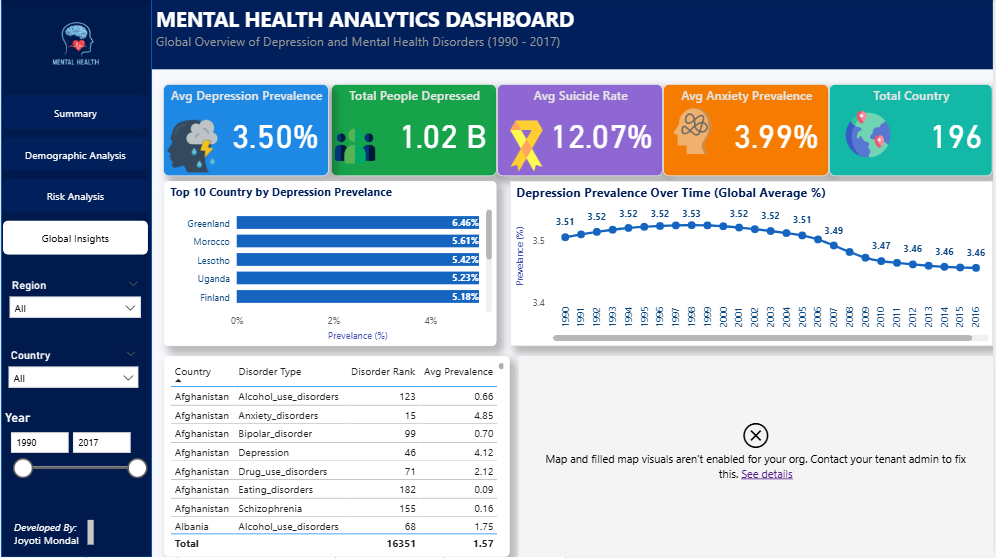

The page's visual inventory and layout, read from the dashboard file:
{"tool":"powerbi","page":{"name":"Global Insights","canvas":[1280,720],"ordinal":3},"visuals":[{"type":"shape","box":[0,0,194.9,720.6],"z":0},{"type":"cardVisual","title":"Avg Depression Prevalence","fields":{"Data":["_Key Measures.Avg Depression Prevalence %"]},"box":[209.5,109.5,214.3,119],"z":0,"group":"g1"},{"type":"shape","box":[194.9,0,1085.1,90.7],"z":1000},{"type":"image","box":[209.5,149.2,76.2,79.4],"z":1000,"group":"g1"},{"type":"textbox","box":[195.2,3.2,558.7,84.1],"z":2000},{"type":"image","box":[11.8,3.4,171.3,120.9],"z":3000},{"type":"slicer","fields":{"Values":["DimCountry.Country"]},"box":[0,446.5,187.1,73.7],"z":4000},{"type":"slicer","title":"Year","fields":{"Values":["DimYear.Year"]},"box":[0,530.1,197,96.4],"z":5000},{"type":"cardVisual","title":"Total People Depressed","fields":{"Data":["_Key Measures.People Suffering KPI"]},"box":[425.4,109.5,214.3,119],"z":6000},{"type":"cardVisual","title":"Avg Suicide Rate","fields":{"Data":["_Key Measures.Avg Suicide Rate"]},"box":[639.7,109.5,214.3,119],"z":7000},{"type":"cardVisual","title":"Avg Anxiety Prevalence","fields":{"Data":["_Key Measures.Avg Anxiety Prevalence %"]},"box":[854,109.5,214.3,119],"z":8000},{"type":"cardVisual","title":"Total Country","fields":{"Data":["_Key Measures.Total Country"]},"box":[1068.3,109.5,211.1,119],"z":9000},{"type":"group","id":"g1","title":"Group 1","box":[209.5,109.5,214.3,119],"z":10000},{"type":"image","box":[425.4,149.2,61.9,79.4],"z":11000},{"type":"image","box":[639.7,149.2,76.2,79.4],"z":12000},{"type":"image","box":[854,130.2,76.2,79.4],"z":13000},{"type":"image","box":[1084.1,139.7,69.8,69.8],"z":14000},{"type":"pageNavigator","box":[3.2,123.8,187.3,209.5],"z":15000},{"type":"textbox","box":[11.1,666.7,112.7,42.9],"z":16000},{"type":"barChart","title":"Top 10 Country by Depression Prevelance","fields":{"Category":["MentalDisorders.Country"],"Y":["_Key Measures.Avg Depression Axis"]},"box":[209.8,235.3,429.4,212.6],"z":17000},{"type":"lineChart","title":"Depression Prevalence Over Time (Global Average %)","fields":{"Y":["_Key Measures.Avg Depression %"],"Category":["MentalDisorders.Year"]},"box":[656.2,235.3,623.6,212.6],"z":18000},{"type":"tableEx","fields":{"Values":["MentalDisorders.Country","MentalDisorders.Disorder Type","_Key Measures.Disorder Rank","_Key Measures.Avg Prevalence"]},"box":[209.8,460.6,446.5,259.4],"z":19000},{"type":"map","title":"Highest Depression % of Population by Country","fields":{"Category":["DimCountry.Country"],"Size":["_Key Measures.Depression % of Population"]},"box":[669,460.6,610.9,259.4],"z":20000},{"type":"slicer","fields":{"Values":["DimCountry.Region"]},"box":[1.4,355.7,188.5,92.1],"z":21000}]}

Visuals, with their boxes on the page's 1280x720 design canvas (x1, y1, x2, y2). These are canvas units, not pixel positions in the 996x558 screenshot, which may show the page scaled, cropped or inside an application window:
shape: x1=0, y1=0, x2=195, y2=721
"Avg Depression Prevalence" cardVisual: x1=210, y1=110, x2=424, y2=228
shape: x1=195, y1=0, x2=1280, y2=91
image: x1=210, y1=149, x2=286, y2=229
textbox: x1=195, y1=3, x2=754, y2=87
image: x1=12, y1=3, x2=183, y2=124
slicer - DimCountry.Country: x1=0, y1=446, x2=187, y2=520
"Year" slicer: x1=0, y1=530, x2=197, y2=626
"Total People Depressed" cardVisual: x1=425, y1=110, x2=640, y2=228
"Avg Suicide Rate" cardVisual: x1=640, y1=110, x2=854, y2=228
"Avg Anxiety Prevalence" cardVisual: x1=854, y1=110, x2=1068, y2=228
"Total Country" cardVisual: x1=1068, y1=110, x2=1279, y2=228
"Group 1" group: x1=210, y1=110, x2=424, y2=228
image: x1=425, y1=149, x2=487, y2=229
image: x1=640, y1=149, x2=716, y2=229
image: x1=854, y1=130, x2=930, y2=210
image: x1=1084, y1=140, x2=1154, y2=210
pageNavigator: x1=3, y1=124, x2=190, y2=333
textbox: x1=11, y1=667, x2=124, y2=710
"Top 10 Country by Depression Prevelance" barChart: x1=210, y1=235, x2=639, y2=448
"Depression Prevalence Over Time (Global Average %)" lineChart: x1=656, y1=235, x2=1280, y2=448
tableEx - MentalDisorders.Country x MentalDisorders.Disorder Type: x1=210, y1=461, x2=656, y2=720
"Highest Depression % of Population by Country" map: x1=669, y1=461, x2=1280, y2=720
slicer - DimCountry.Region: x1=1, y1=356, x2=190, y2=448
